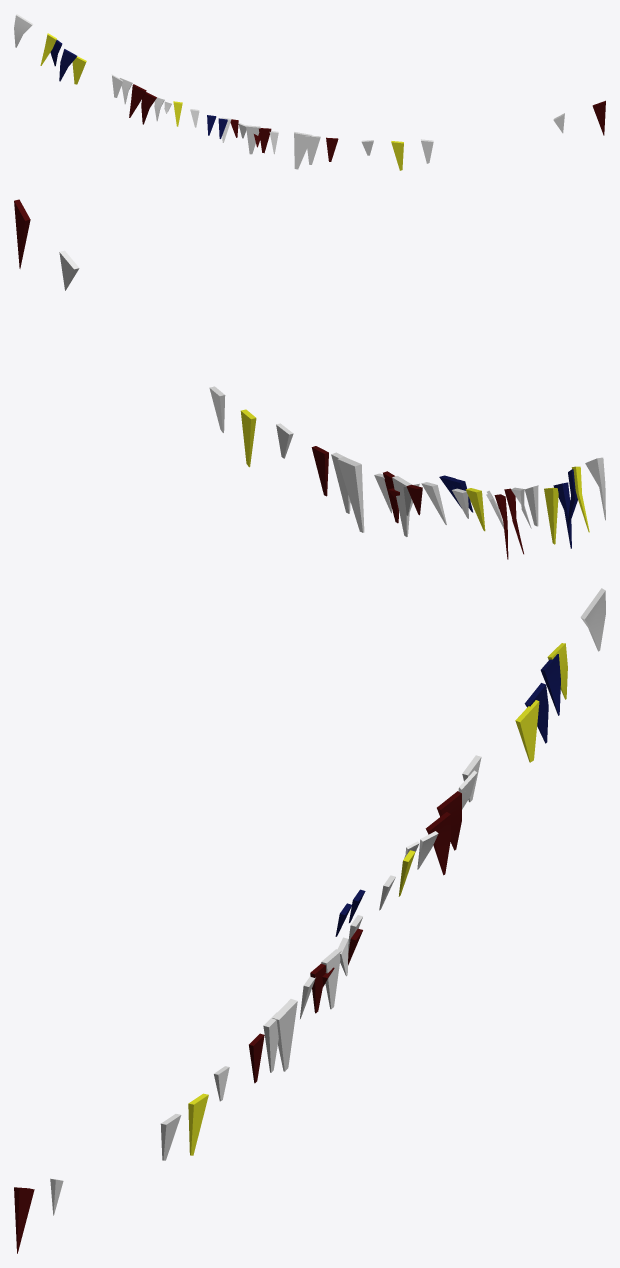
3 renders of one model, top to bottom at view 1: azimuth 30°, elevation 25°; view 2: azimuth 150°, elevation 25°; view 3: azimuth 270°, elevation 25°, orthographic. The views are drawn at different scales.
Parts seen in each view (by area): view 1: Box111, Box128, Box131, Box116, Box108, Box137, Box114, Box113, Box117, Box134; view 2: Box111, Box137, Box134, Box117, Box113, Box128, Box109; view 3: Box111, Box128, Box117.
Boxes of the visible parts, x1,y1,x2,y2 form: Box111: (294, 132, 312, 169); Box128: (14, 14, 33, 47); Box131: (129, 84, 146, 117); Box116: (59, 49, 76, 81); Box108: (305, 135, 320, 164); Box137: (592, 100, 605, 135); Box114: (141, 92, 156, 124); Box113: (246, 125, 260, 154); Box117: (72, 56, 86, 84); Box134: (391, 141, 403, 170); Box111: (337, 456, 364, 532); Box137: (14, 199, 30, 268); Box134: (240, 409, 256, 467); Box117: (544, 487, 558, 544); Box113: (392, 476, 411, 536); Box128: (585, 457, 605, 520); Box109: (311, 446, 328, 496); Box111: (272, 999, 297, 1071); Box128: (580, 588, 605, 651); Box117: (515, 700, 539, 762).
Size of the model in its own units: 2109 by 674 by 1225.
